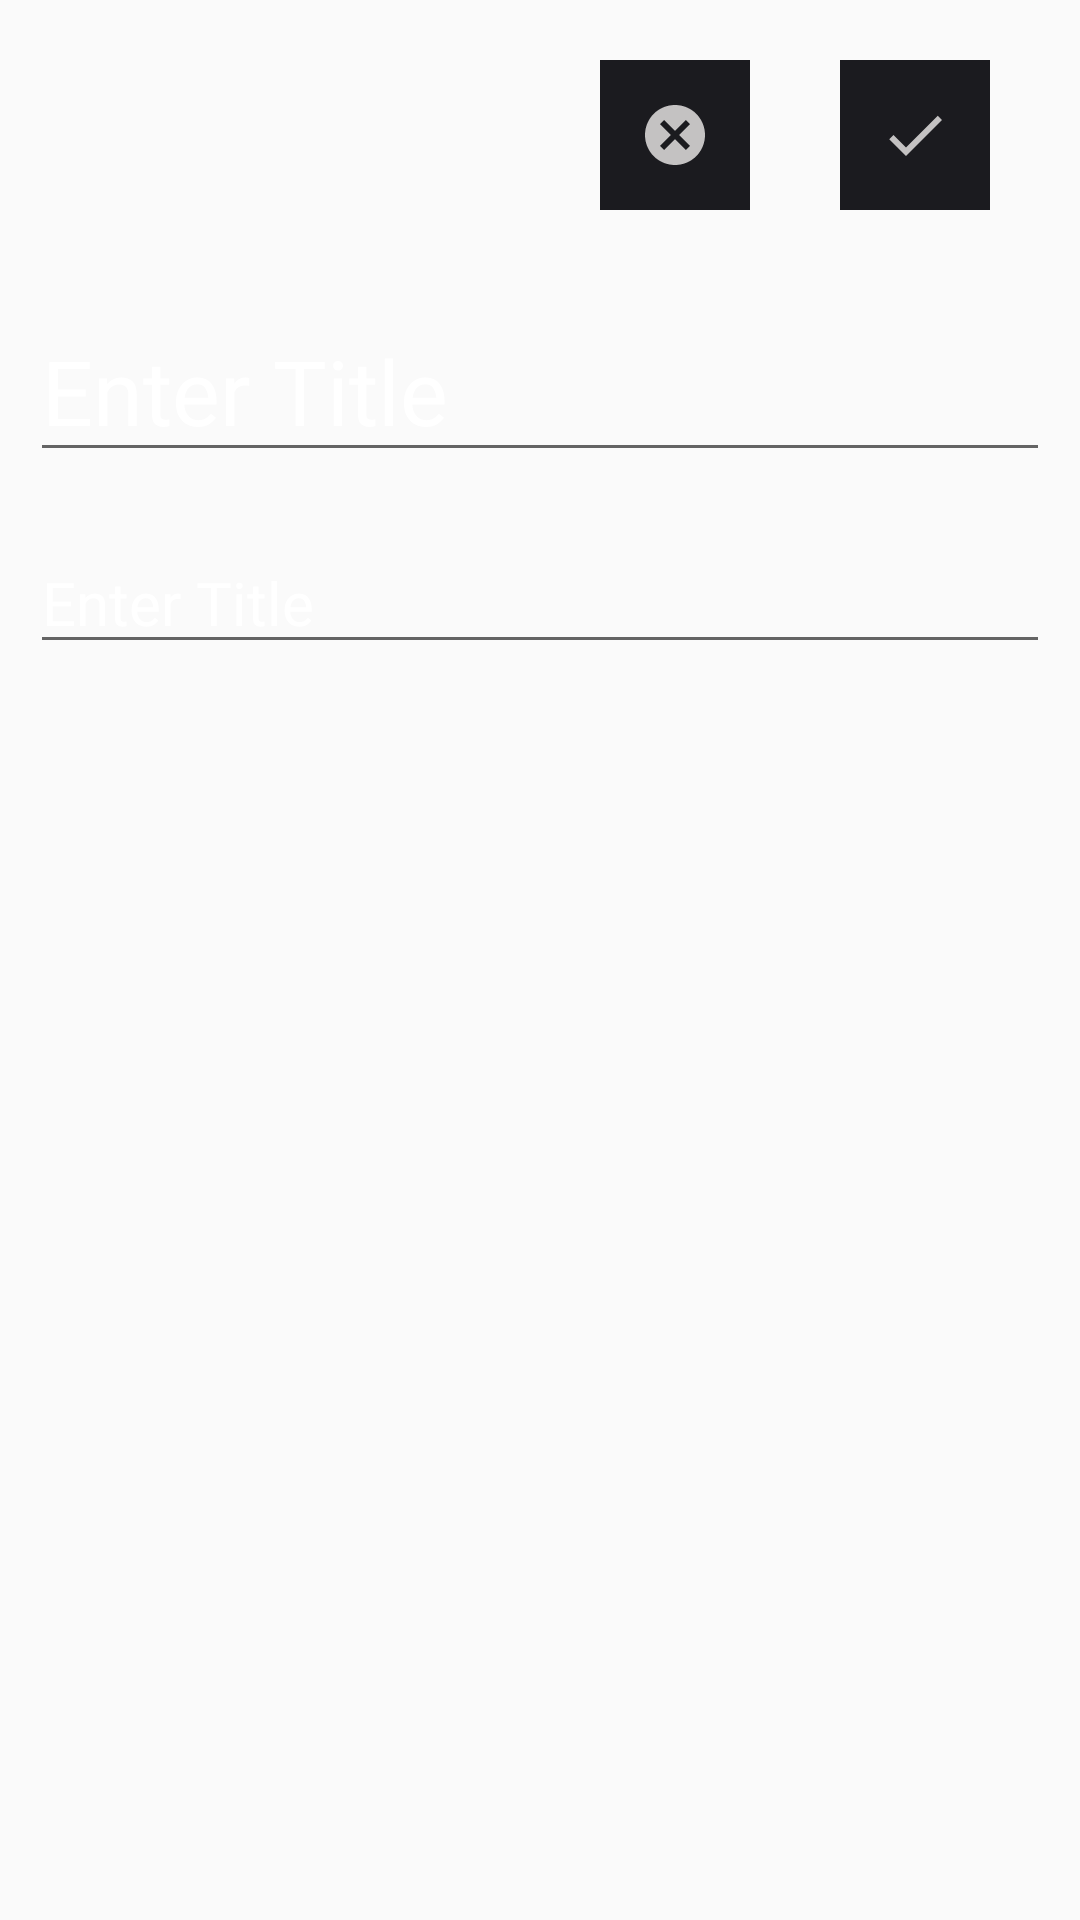

Where to tap for icons on this 1080 x 1920 app screen, as (x,y):
cancel: (675,135)
check: (915,135)
